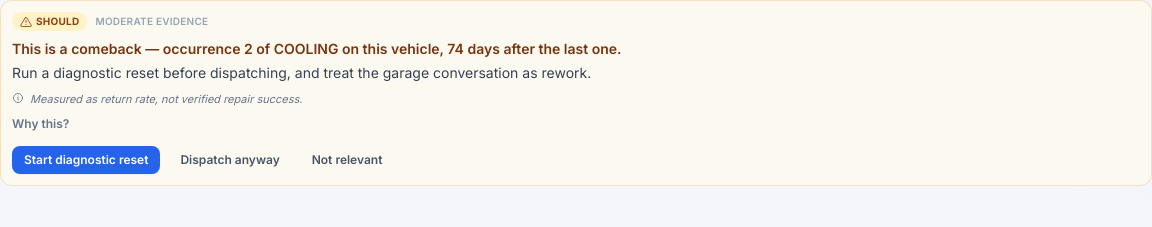
Test: a failed response is surfaced rather than swallowed
Step 1. Click the button "Start diagnostic reset" → (86, 160), box top-left (12, 146), bottom-right (160, 174)
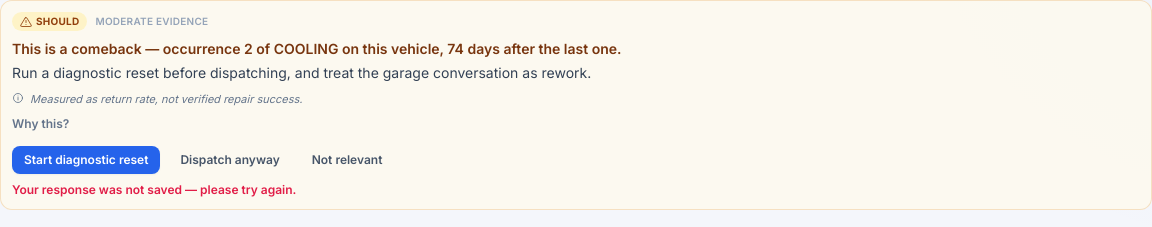
Check: the text "Your response was not saved — please try again." is shown, box top-left (12, 182), bottom-right (296, 196)
